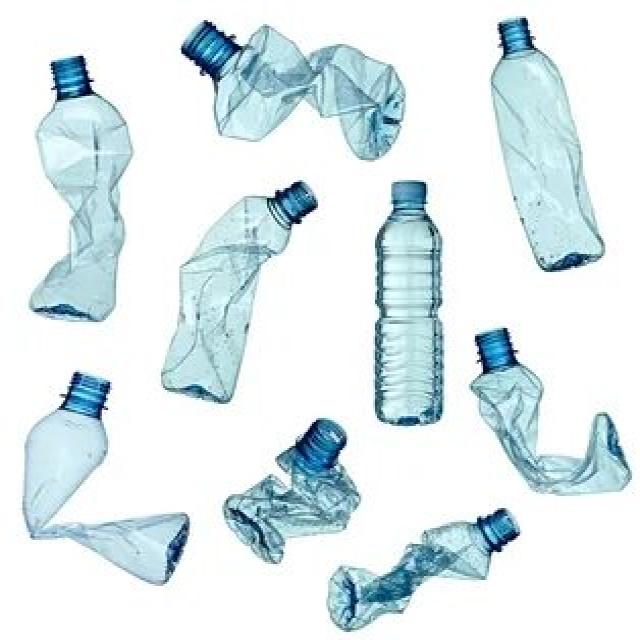blue: (21, 372, 190, 583), (161, 180, 318, 403), (177, 20, 406, 162), (491, 15, 606, 270), (466, 327, 634, 495), (31, 53, 132, 320), (328, 506, 521, 632), (219, 418, 364, 562), (374, 200, 442, 425)
